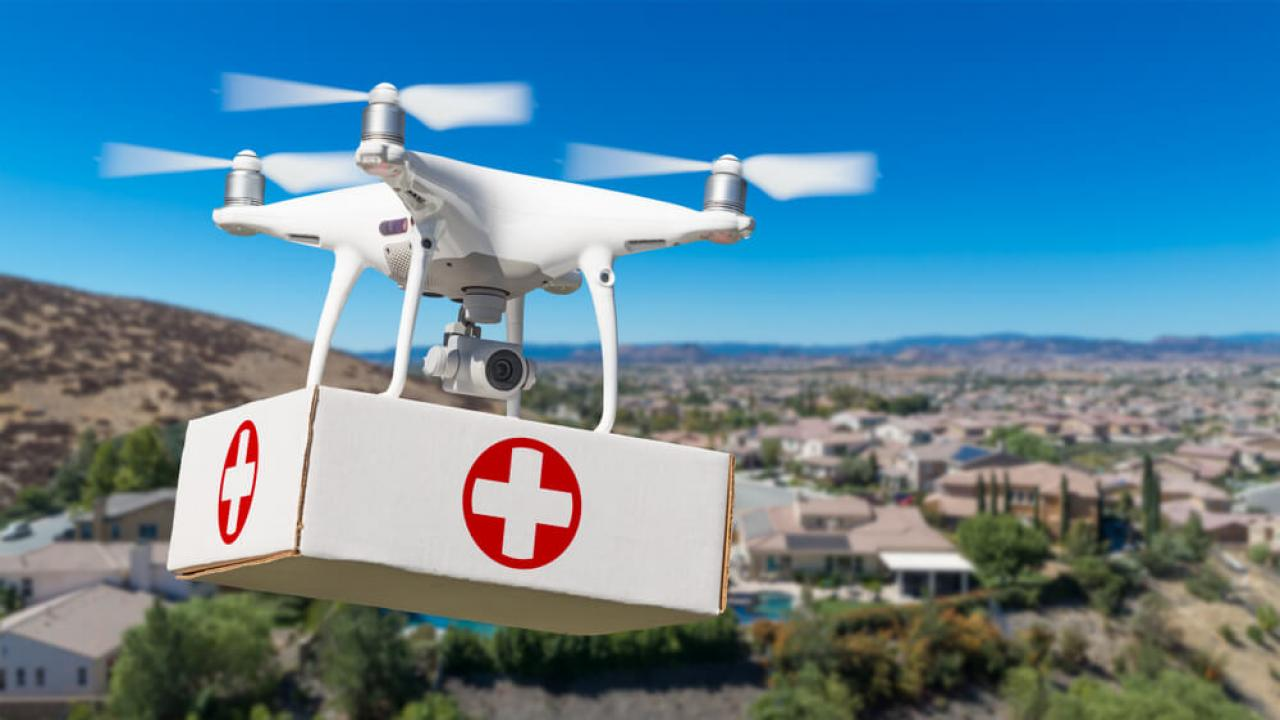Drone: (74, 47, 909, 440)
